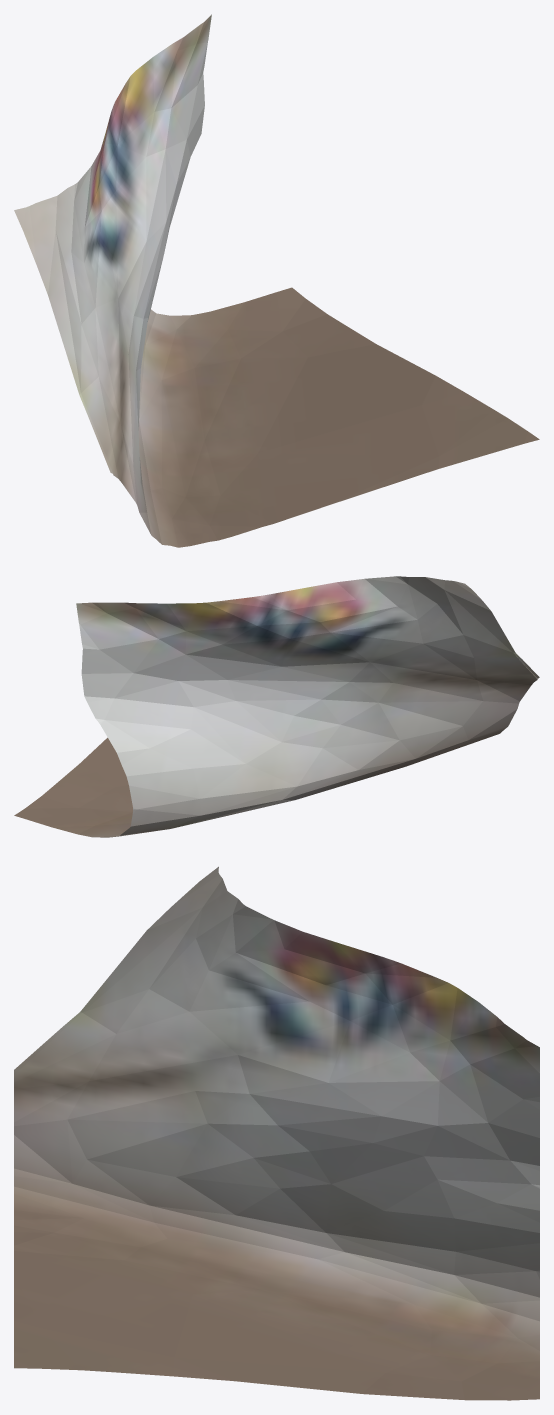
The picture shows the model from 3 angles, top to bottom: view 1: azimuth 30°, elevation 25°; view 2: azimuth 150°, elevation 25°; view 3: azimuth 270°, elevation 25°; orthographic projection. The views are drawn at different scales.
Bounding box in the file's own units: 42.87 × 28.7 × 42.87.
1 material, 1 textured.
